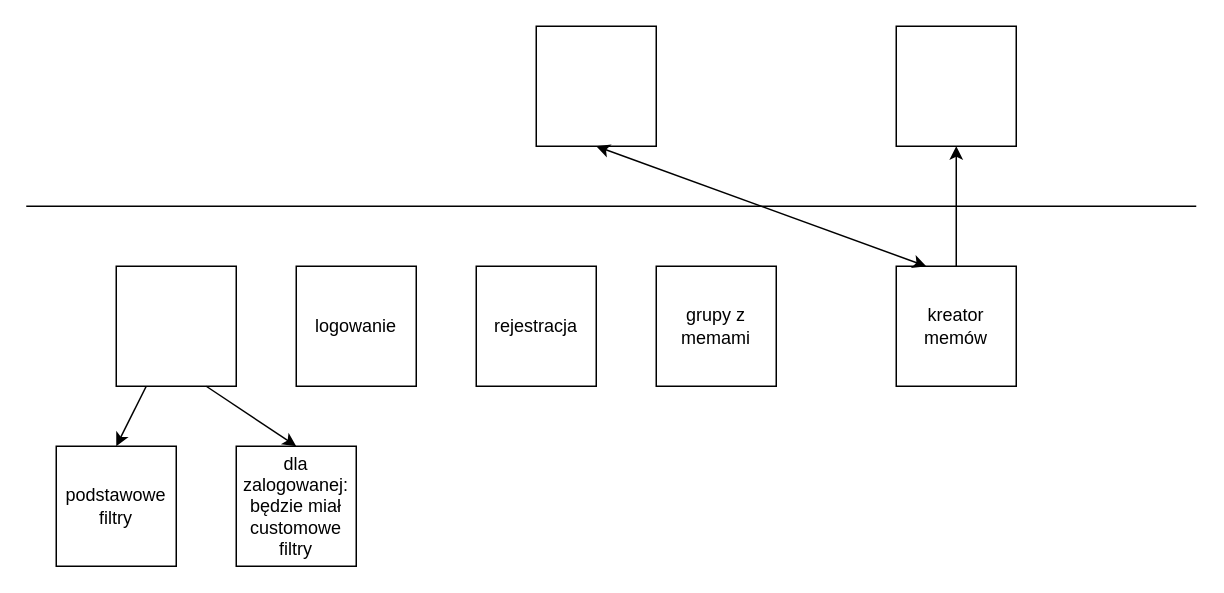
Image size: 1224x593. Some labels were removed from this diagram. Here are the shapes that lost their labels. From the top down, the box of each, then its label:
(535, 25, 656, 146): pocketbase
(895, 25, 1016, 146): templatki memów z imgflip
(115, 265, 236, 386): home page/feed z popularnymi memami
